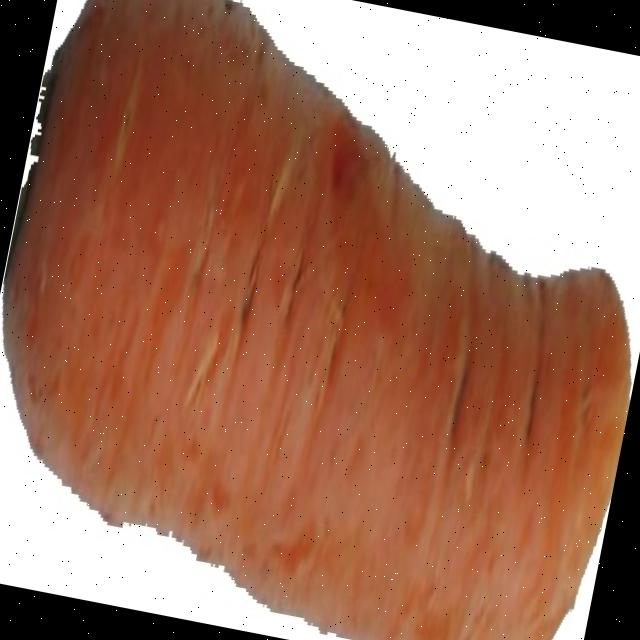carrot: (3, 0, 629, 640)
